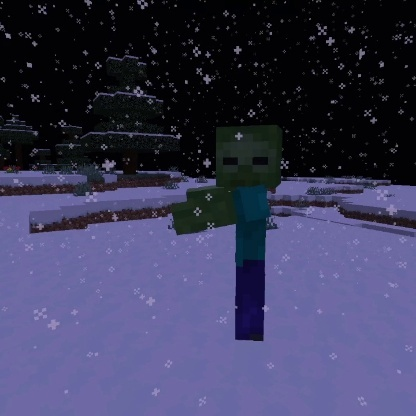zombie: (165, 119, 289, 347)
